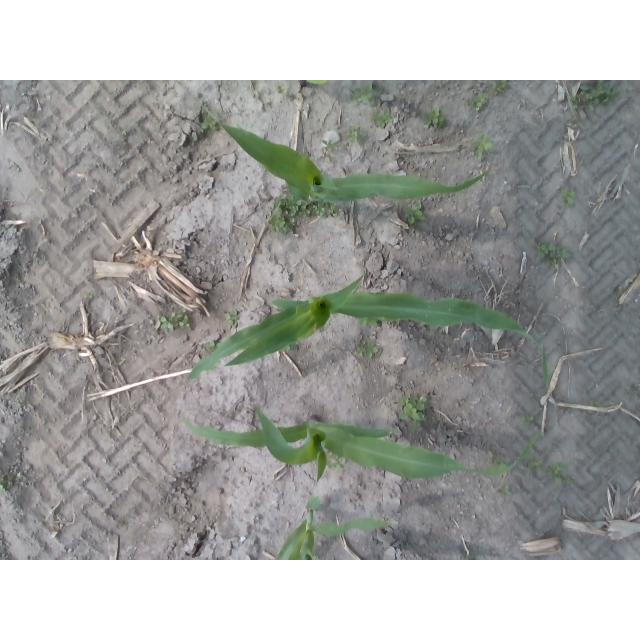Maize: (192, 275, 549, 385), (199, 104, 488, 200), (183, 406, 538, 483), (274, 496, 399, 561), (297, 80, 327, 88)
Weeds: (570, 81, 618, 112), (268, 193, 301, 235), (398, 394, 430, 431), (537, 242, 571, 267), (299, 199, 342, 218), (160, 309, 191, 332), (546, 460, 574, 485), (403, 203, 426, 226), (471, 132, 492, 157), (425, 107, 448, 129), (350, 84, 374, 105), (325, 450, 348, 470), (198, 114, 219, 135), (372, 108, 393, 129), (357, 340, 379, 358), (467, 93, 485, 112), (487, 449, 506, 467), (345, 124, 364, 142), (560, 186, 576, 207), (528, 458, 545, 474), (224, 309, 238, 328), (203, 342, 221, 355), (493, 80, 507, 96), (322, 138, 339, 151), (358, 317, 378, 327), (520, 414, 534, 426), (500, 484, 512, 497), (0, 477, 8, 494), (285, 342, 299, 351), (588, 400, 600, 408), (278, 86, 287, 95), (83, 292, 93, 299)
